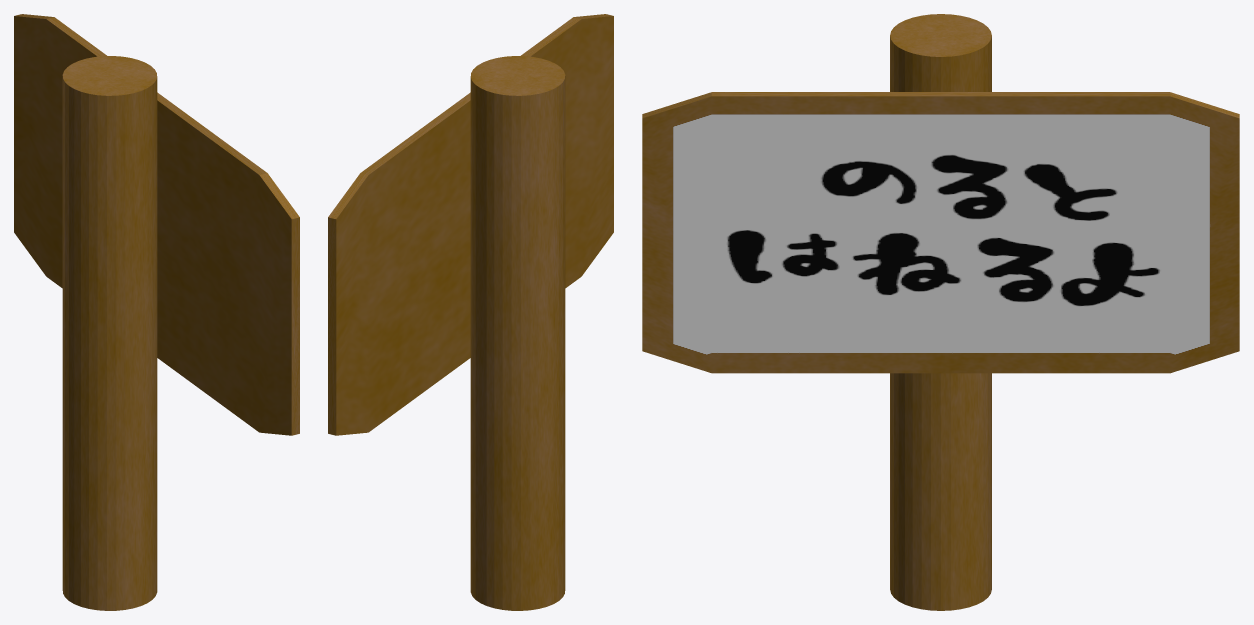
The model's file is Signboard.obj.
3 renders of one model, left to right at view 1: azimuth 30°, elevation 25°; view 2: azimuth 150°, elevation 25°; view 3: azimuth 270°, elevation 25°, orthographic. The views are drawn at different scales.
Visible parts, largest first — view 1: 円柱; view 2: 円柱; view 3: 円柱.
Boxes of the visible parts, box(x1,y1,x2,y2) form: 円柱: box(14, 14, 299, 610); 円柱: box(328, 14, 613, 610); 円柱: box(642, 14, 1239, 610).
Size of the model in its own units: 1.12 by 6 by 5.86.
